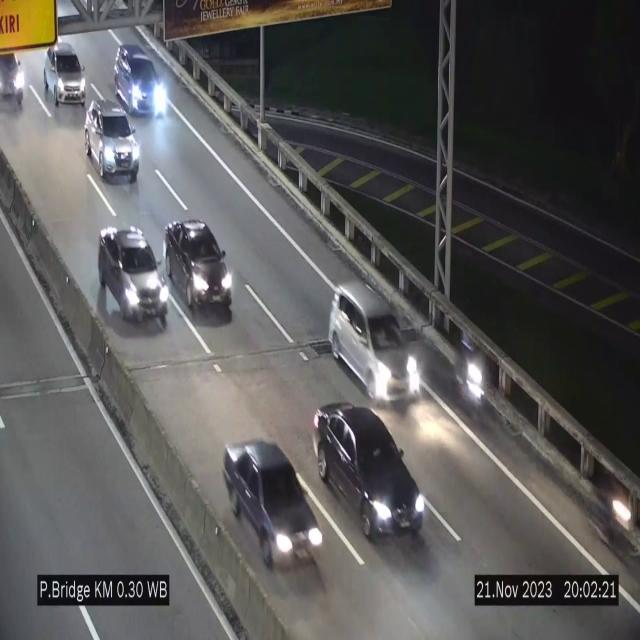Car: (310, 400, 423, 536), (222, 435, 324, 573), (330, 285, 420, 407), (98, 227, 168, 328), (164, 220, 233, 322), (86, 100, 140, 182), (111, 44, 167, 116), (42, 42, 88, 103)
Motorcycle: (590, 464, 636, 563), (454, 324, 490, 422)
